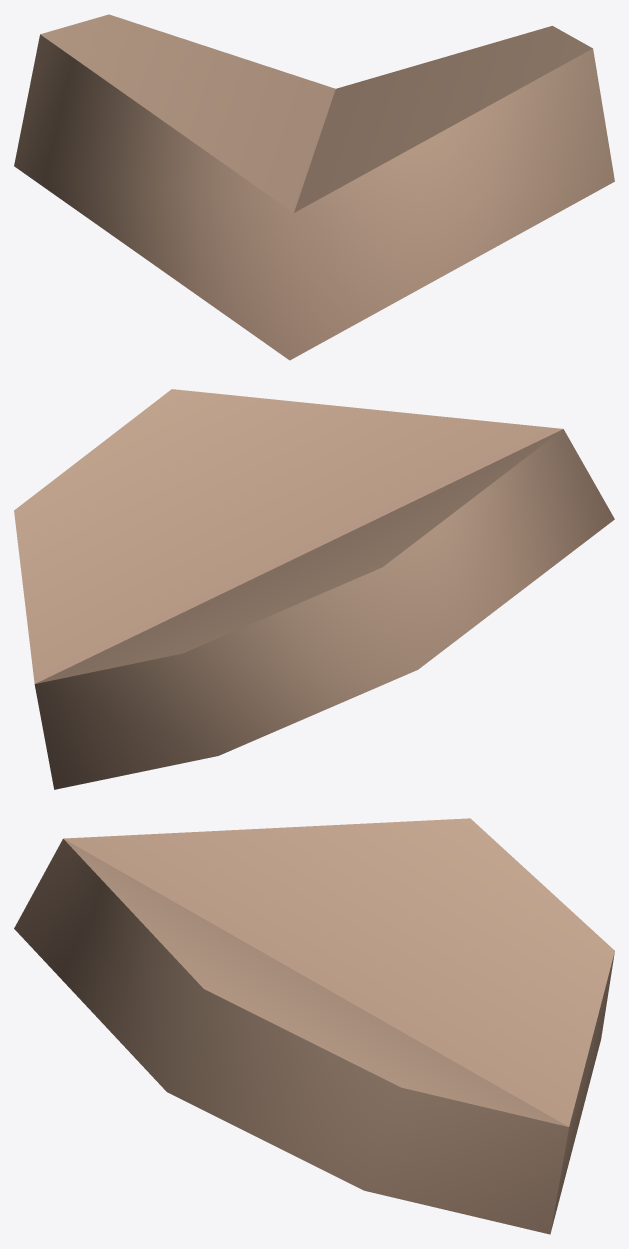
File: (%no-merge) 26.glb
3 renders of one model, top to bottom at view 1: azimuth 30°, elevation 25°; view 2: azimuth 150°, elevation 25°; view 3: azimuth 270°, elevation 25°, orthographic. The views are drawn at different scales.
Parts seen in each view (by area): view 1: (%no-merge) 26; view 2: (%no-merge) 26; view 3: (%no-merge) 26.
Boxes of the visible parts, x1,y1,x2,y2 form: (%no-merge) 26: [14, 14, 614, 360]; (%no-merge) 26: [14, 389, 614, 789]; (%no-merge) 26: [14, 818, 614, 1234].
Bounding box in the file's own units: 0.1397 × 0.0818 × 0.1641.
